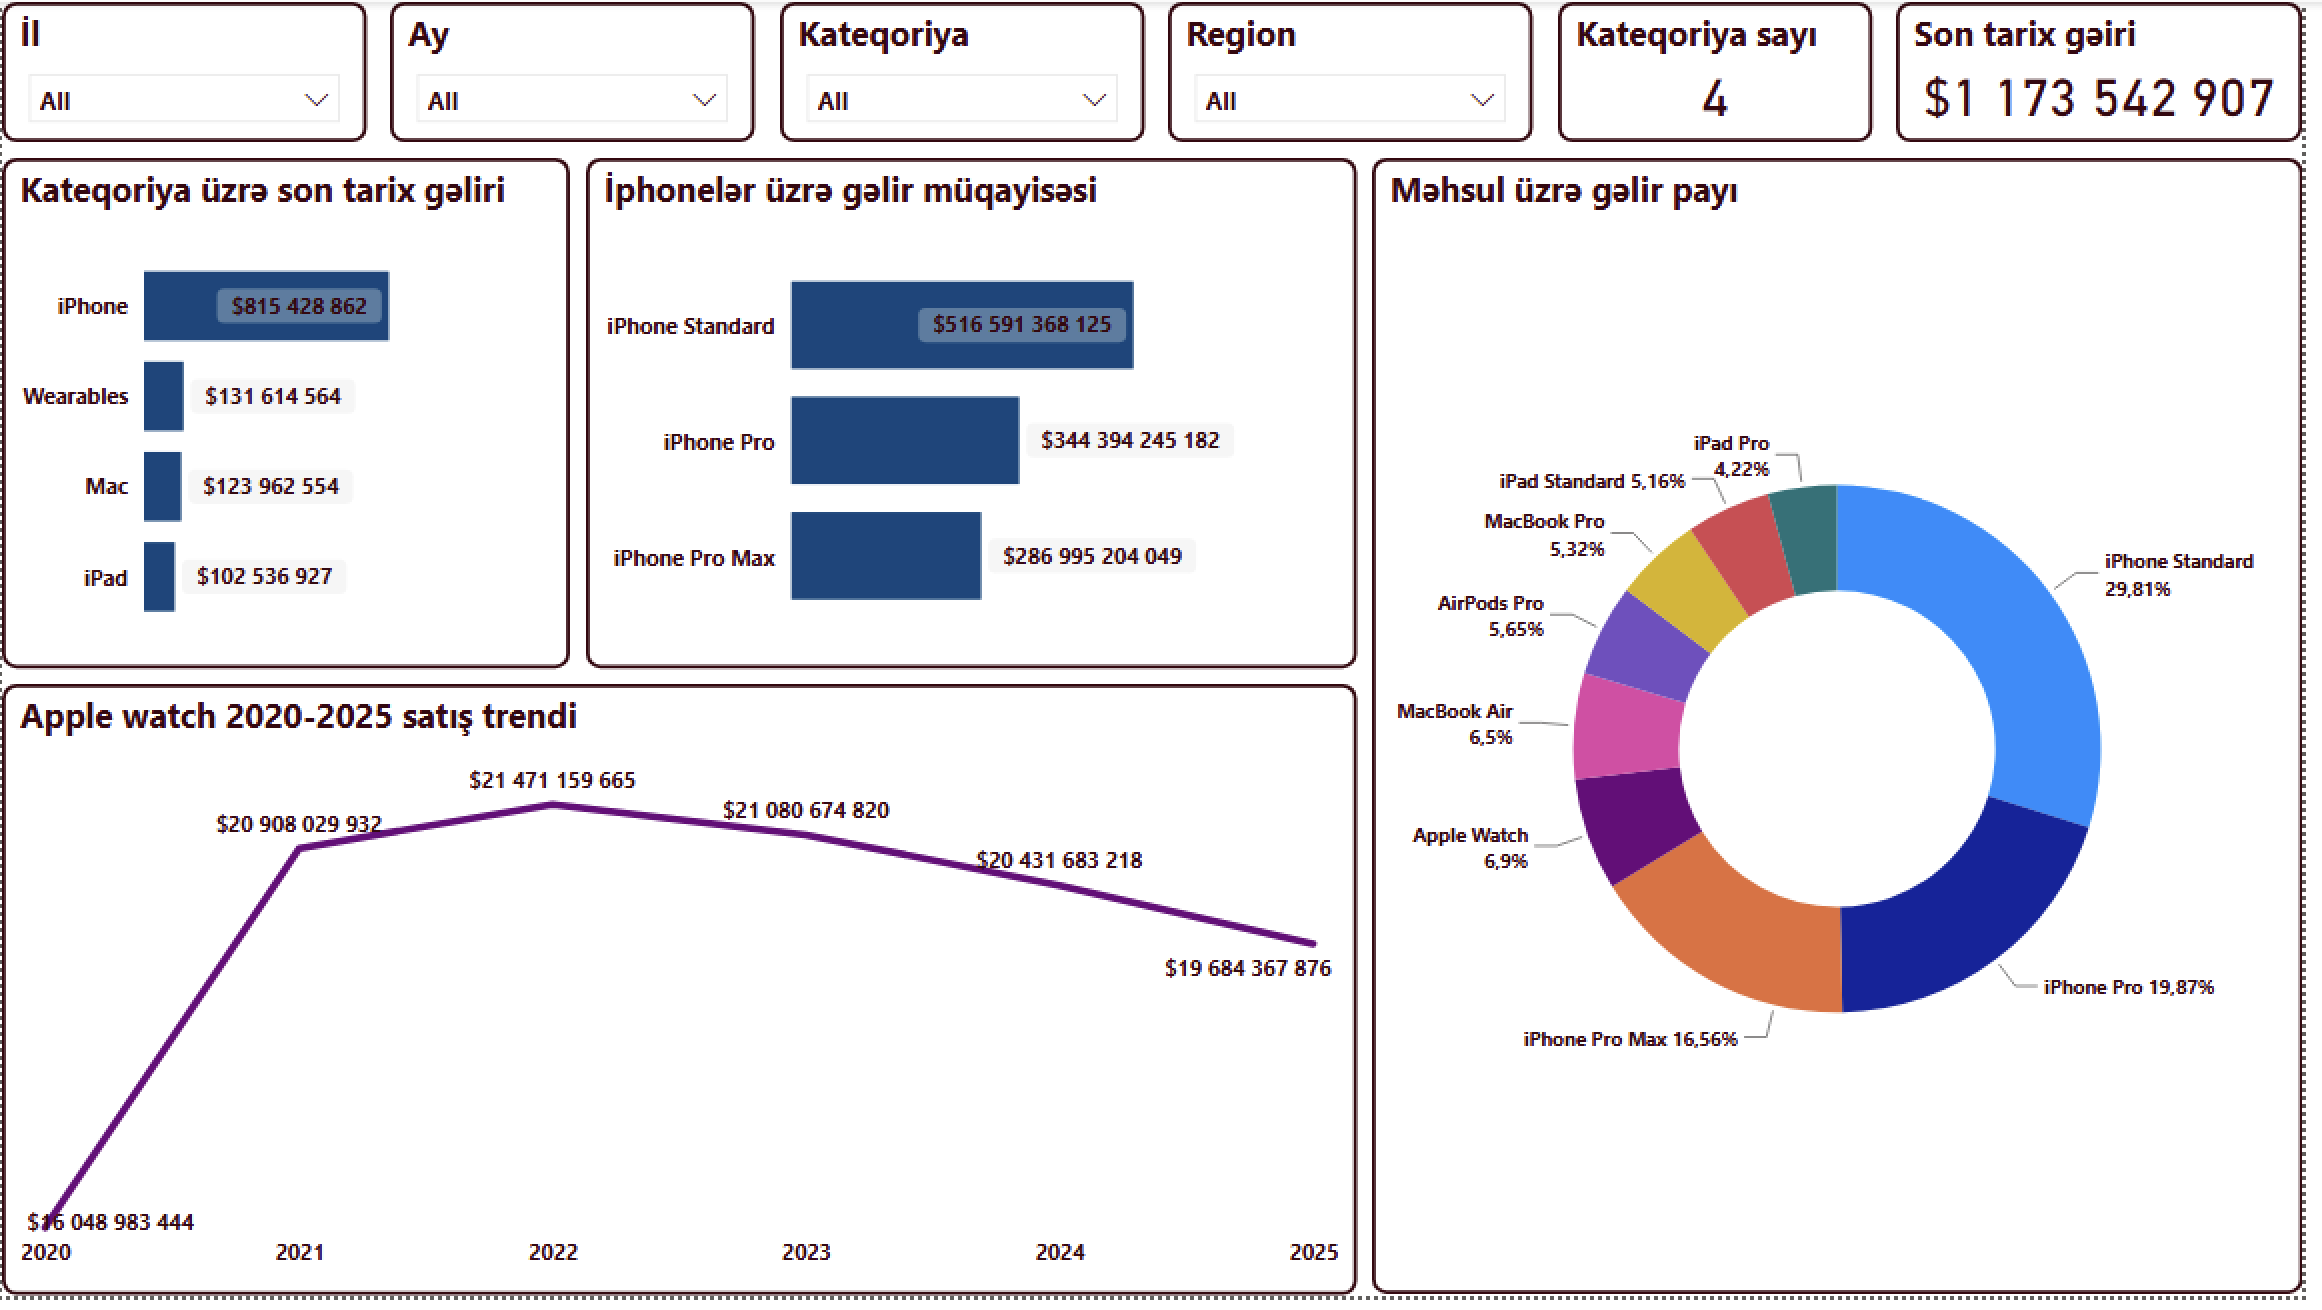

This screenshot's page, from the dashboard's own definition file:
{"tool":"powerbi","page":{"name":"Məhsul analizi","canvas":[1280,720],"ordinal":2},"visuals":[{"type":"slicer","title":"İl","fields":{"Values":["Calendar.Date.Variation.Date Hierarchy.Year"]},"box":[0,0,202.5,77.9],"z":0},{"type":"slicer","title":"Ay","fields":{"Values":["Calendar.Date.Variation.Date Hierarchy.Month"]},"box":[216.3,0,202.5,77.9],"z":1000},{"type":"slicer","title":"Kateqoriya","fields":{"Values":["Apple_Gəlir_2020_2025.Kateqoriya"]},"box":[432.7,0,202.5,77.9],"z":2000},{"type":"slicer","title":"Region","fields":{"Values":["Apple_Region.Region adı"]},"box":[649,0,202.5,77.9],"z":3000},{"type":"card","title":"Kateqoriya sayı","fields":{"Values":["DAX.Kateqoriya sayı"]},"box":[865.3,0,174.7,77.9],"z":4000},{"type":"card","title":"Son tarix gəiri","fields":{"Values":["DAX.Son tarix gəliri"]},"box":[1053.8,0,225.9,77.9],"z":5000},{"type":"barChart","title":"Kateqoriya üzrə son tarix gəliri","fields":{"Category":["Apple_Gəlir_2020_2025.Kateqoriya"],"Y":["DAX.Son tarix gəliri"]},"box":[0,87.1,315.6,284],"z":6000},{"type":"donutChart","title":"Məhsul üzrə gəlir payı","fields":{"Category":["Apple_Məhsul.Məhsul adı"],"Y":["DAX.Ümumi gəlir"]},"box":[762.4,87.1,517.6,632.4],"z":7000},{"type":"clusteredBarChart","title":"İphonelər üzrə gəlir müqayisəsi","fields":{"Category":["Apple_Məhsul.Məhsul adı"],"Y":["DAX.Ümumi gəlir"]},"box":[324.4,87.1,429.2,284],"z":8000},{"type":"lineChart","title":"Apple watch 2020-2025 satış trendi","fields":{"Category":["Calendar.Date.Variation.Date Hierarchy.Year"],"Y":["DAX.Ümumi gəlir"],"Series":["Apple_Məhsul.Məhsul adı"]},"box":[0,380,753.6,339.6],"z":9000}]}

Visuals, with their boxes in screenshot pixels (x1, y1, x2, y2), scaled from the page's 1280x720 canvas onto the 2322x1310 screenshot:
"İl" slicer: region(0, 0, 367, 142)
"Ay" slicer: region(392, 0, 760, 142)
"Kateqoriya" slicer: region(785, 0, 1152, 142)
"Region" slicer: region(1177, 0, 1545, 142)
"Kateqoriya sayı" card: region(1570, 0, 1887, 142)
"Son tarix gəiri" card: region(1912, 0, 2321, 142)
"Kateqoriya üzrə son tarix gəliri" barChart: region(0, 158, 573, 675)
"Məhsul üzrə gəlir payı" donutChart: region(1383, 158, 2321, 1309)
"İphonelər üzrə gəlir müqayisəsi" clusteredBarChart: region(588, 158, 1367, 675)
"Apple watch 2020-2025 satış trendi" lineChart: region(0, 691, 1367, 1309)
